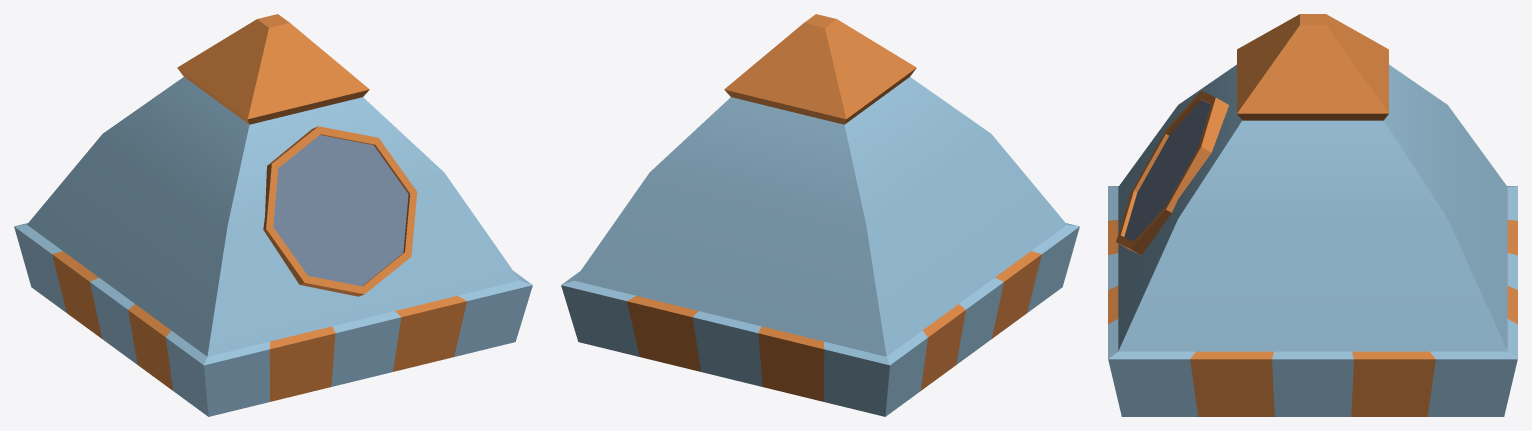
Rendered from CampingTent04.fbx.
3 views of the same model, side by side, from view 1: azimuth 30°, elevation 25°; view 2: azimuth 150°, elevation 25°; view 3: azimuth 270°, elevation 25° (orthographic). The views are drawn at different scales.
Visible parts, largest first — view 1: Camp_Tent2; view 2: Camp_Tent2; view 3: Camp_Tent2.
Boxes of the visible parts, x1,y1,x2,y2 form: Camp_Tent2: (14, 14, 532, 416); Camp_Tent2: (561, 14, 1079, 416); Camp_Tent2: (1108, 14, 1517, 416).
Size of the model in its own units: 61.9 by 61.9 by 52.8.
